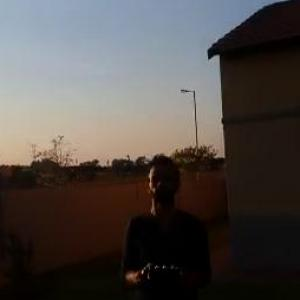follow: (117, 152, 222, 299)
